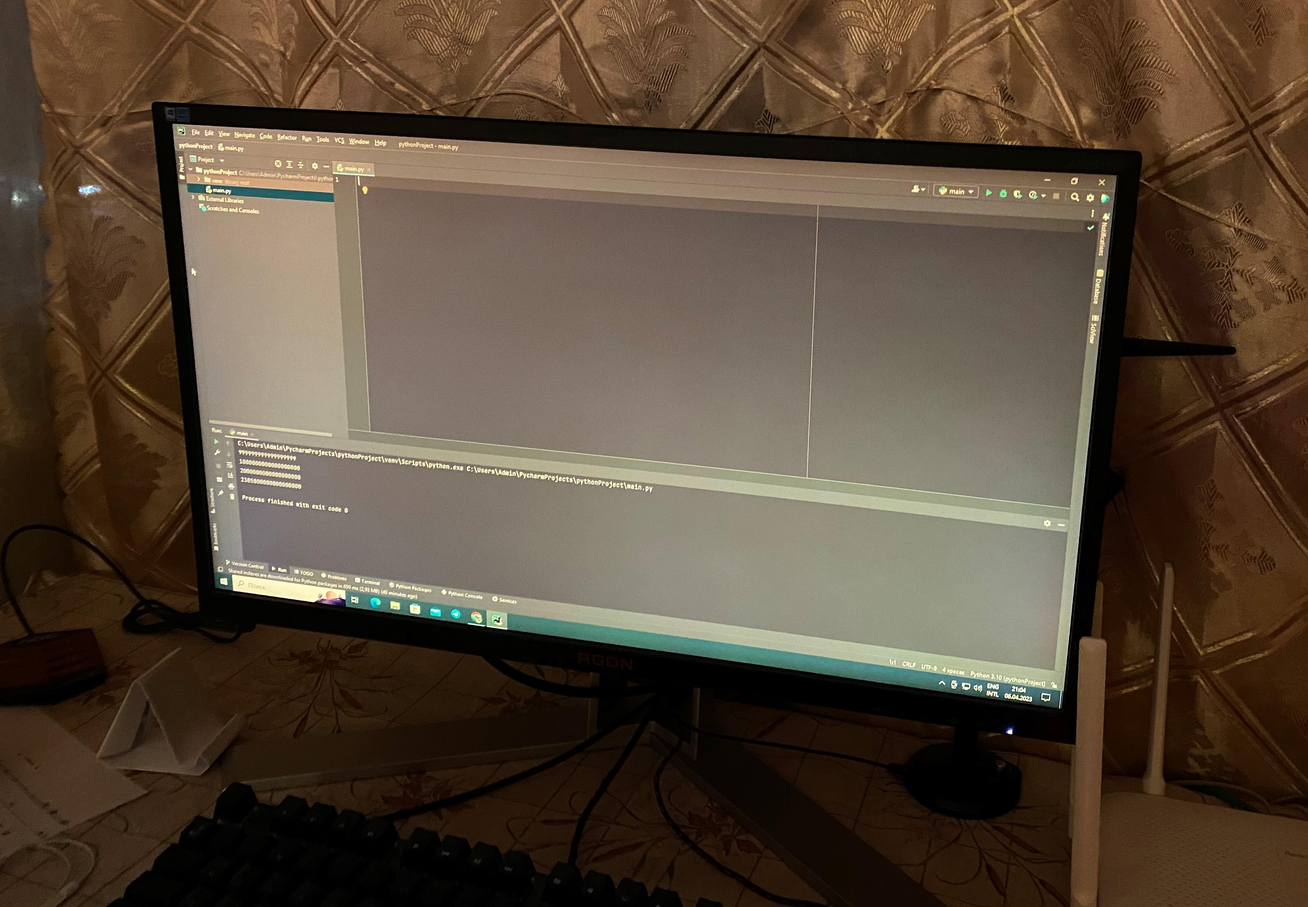monitor: (143, 87, 1147, 757)
